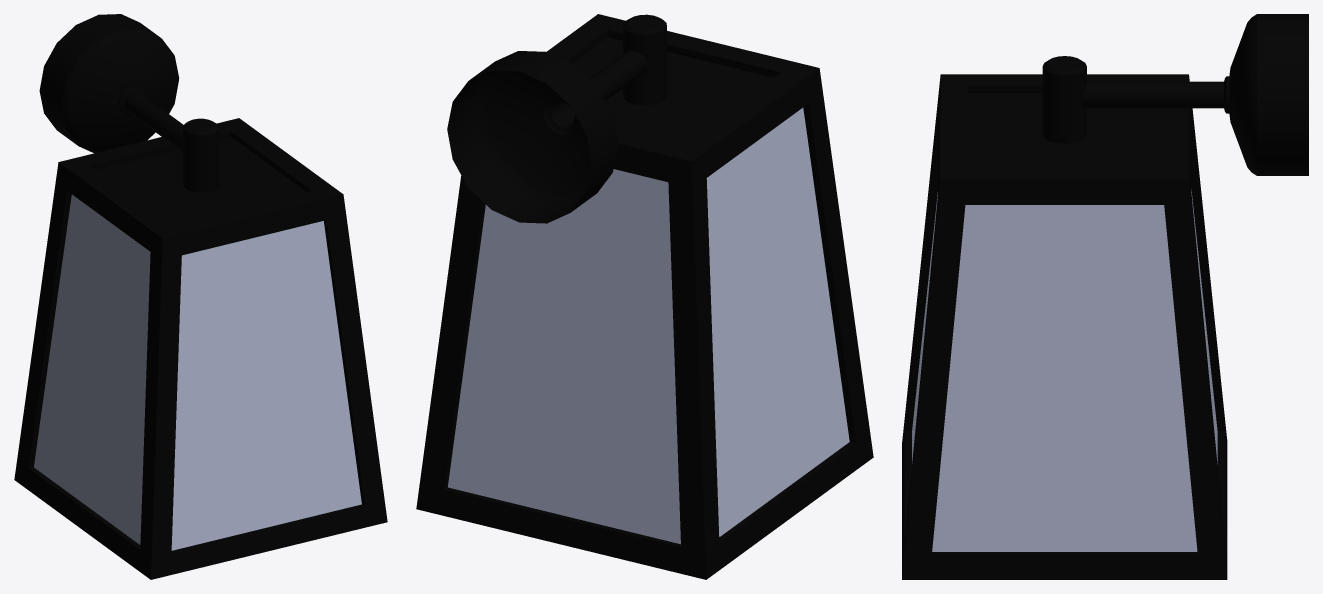
Rendered from SM_Outdoor_Light_001.FBX.
The picture shows the model from 3 angles, left to right: view 1: azimuth 30°, elevation 25°; view 2: azimuth 150°, elevation 25°; view 3: azimuth 270°, elevation 25°; orthographic projection. The views are drawn at different scales.
Parts seen in each view (by area): view 1: SM_Outdoor_Light_001; view 2: SM_Outdoor_Light_001; view 3: SM_Outdoor_Light_001.
Boxes of the visible parts, <box> form: SM_Outdoor_Light_001: <box>14,14,387,579</box>; SM_Outdoor_Light_001: <box>416,14,873,579</box>; SM_Outdoor_Light_001: <box>902,14,1308,579</box>.
Bounding box in the file's own units: 22.11 × 27.63 × 36.71.
